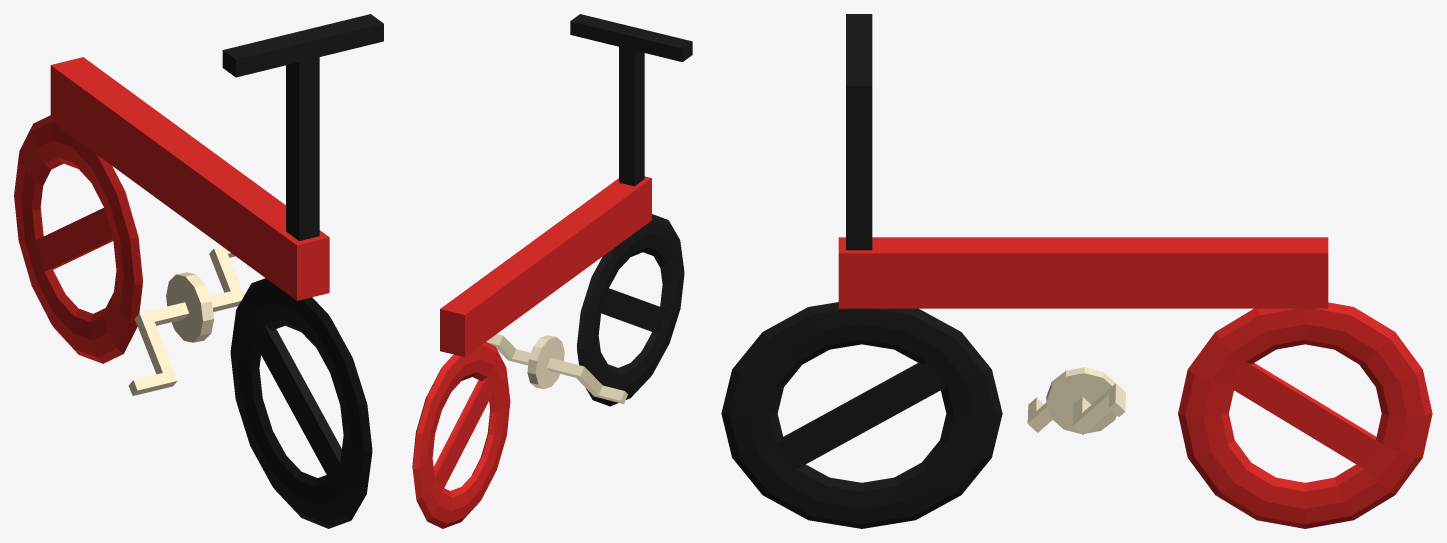
Rendered from tbike.glb.
3 renders of one model, left to right at view 1: azimuth 30°, elevation 25°; view 2: azimuth 150°, elevation 25°; view 3: azimuth 270°, elevation 25°, orthographic. The views are drawn at different scales.
Parts seen in each view (by area): view 1: Bike, frontwheel.001, Rear wheel, steer.001, Pedal.002, WholePedal; view 2: Bike, Rear wheel, frontwheel.001, steer.001, Pedal.002, WholePedal; view 3: frontwheel.001, Bike, Rear wheel, steer.001, WholePedal, Pedal.002.
Part boxes in pixels (left/top/right/bottom): Bike: left=50, top=57, right=329, bottom=300; frontwheel.001: left=230, top=278, right=372, bottom=528; Rear wheel: left=14, top=115, right=142, bottom=363; steer.001: left=222, top=14, right=383, bottom=240; Pedal.002: left=128, top=246, right=244, bottom=395; WholePedal: left=166, top=272, right=213, bottom=342; Bike: left=440, top=176, right=651, bottom=356; Rear wheel: left=412, top=342, right=510, bottom=528; frontwheel.001: left=577, top=214, right=684, bottom=406; steer.001: left=570, top=14, right=692, bottom=186; Pedal.002: left=486, top=334, right=627, bottom=403; WholePedal: left=527, top=335, right=564, bottom=389; frontwheel.001: left=721, top=302, right=1002, bottom=528; Bike: left=838, top=237, right=1328, bottom=308; Rear wheel: left=1178, top=302, right=1432, bottom=528; steer.001: left=846, top=14, right=872, bottom=250; WholePedal: left=1046, top=367, right=1116, bottom=433; Pedal.002: left=1027, top=383, right=1125, bottom=434.
Bounding box in the file's own units: 0.6725 × 1.93 × 2.59.
